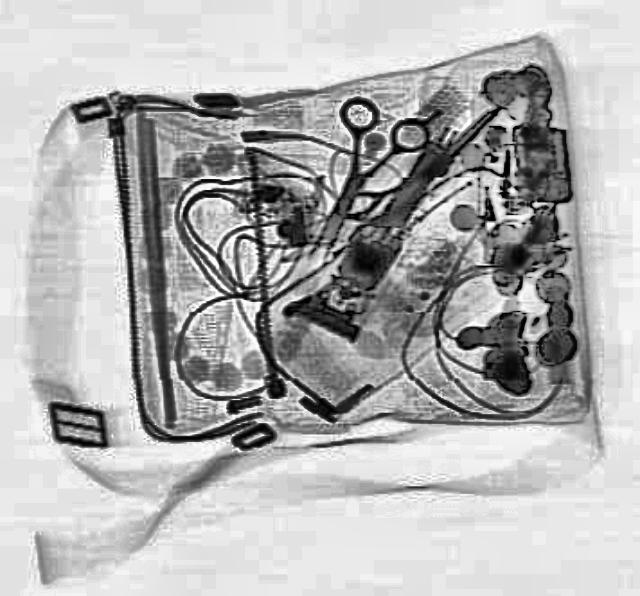Scissors: (270, 91, 434, 269)
